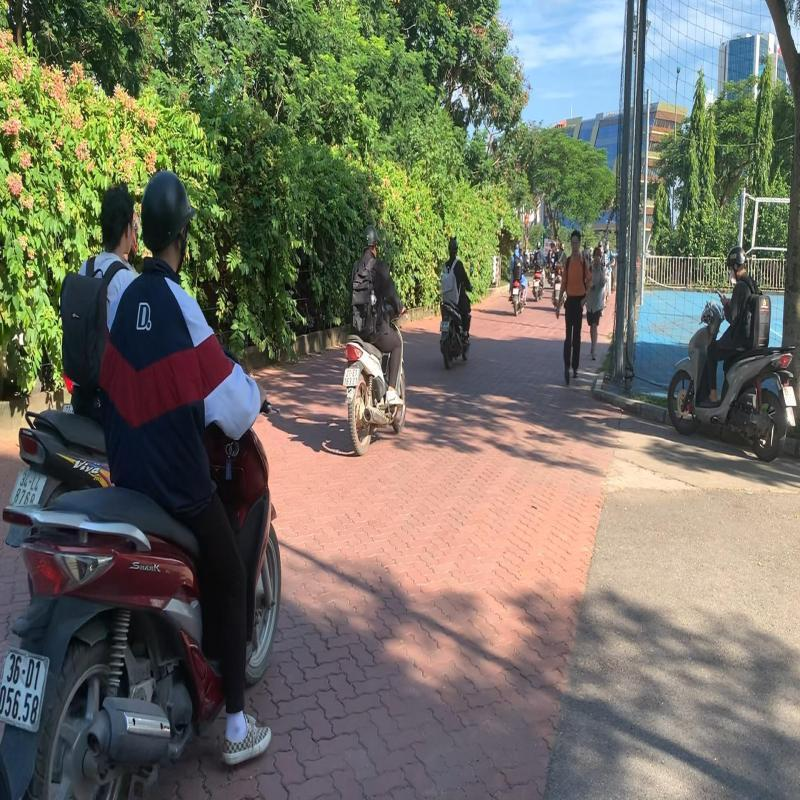helmet: (140, 170, 194, 254)
licenseplate: (0, 644, 50, 734), (8, 467, 46, 508)
motorcyclist: (0, 163, 285, 800), (4, 170, 144, 584)
nohelmet: (100, 179, 136, 257)
